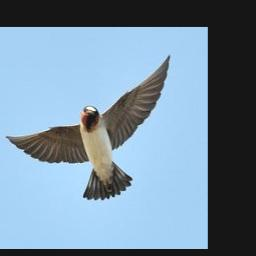Swallow: (6, 52, 173, 200)
